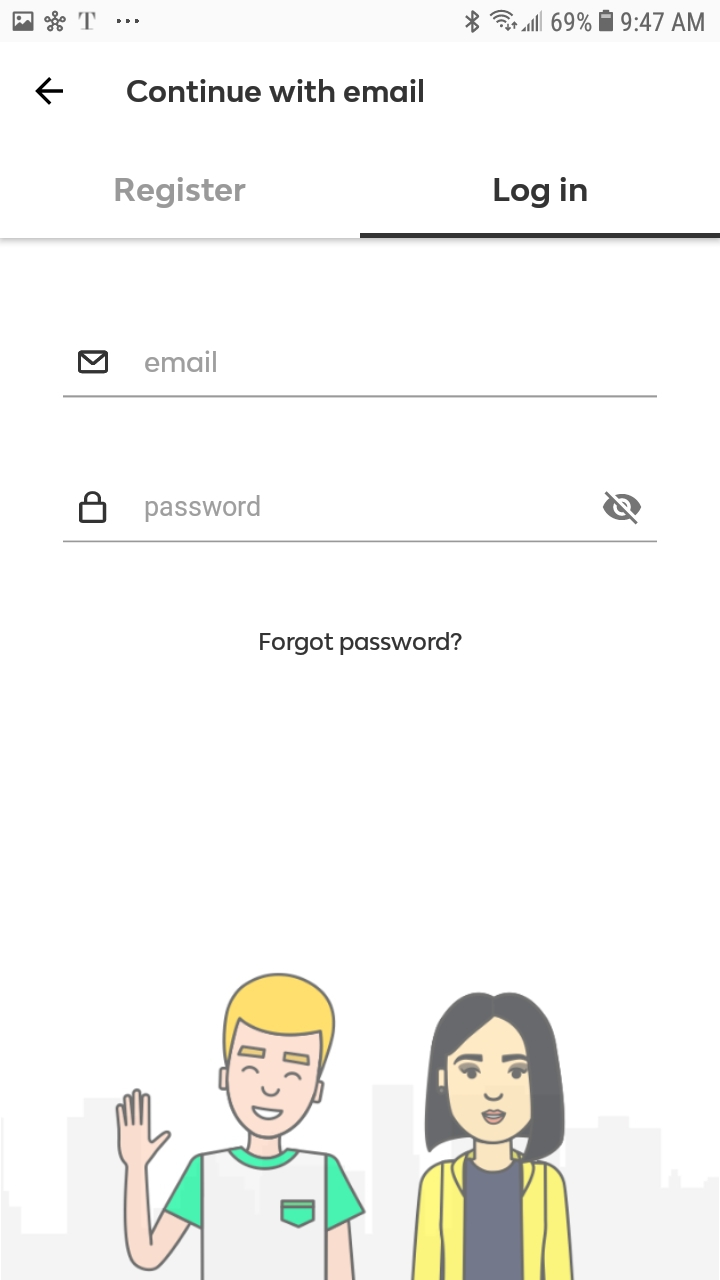EditText: (64, 492, 657, 544), (64, 350, 657, 399)
Icon: (602, 491, 642, 525), (80, 492, 108, 524), (36, 78, 64, 106), (79, 351, 109, 375)
Image: (1, 972, 720, 1280)
Text: (127, 80, 424, 104), (261, 632, 463, 656), (115, 177, 247, 209), (146, 496, 261, 523), (494, 177, 588, 209), (146, 351, 217, 373)
UpperTaskBar: (2, 1, 720, 42)
